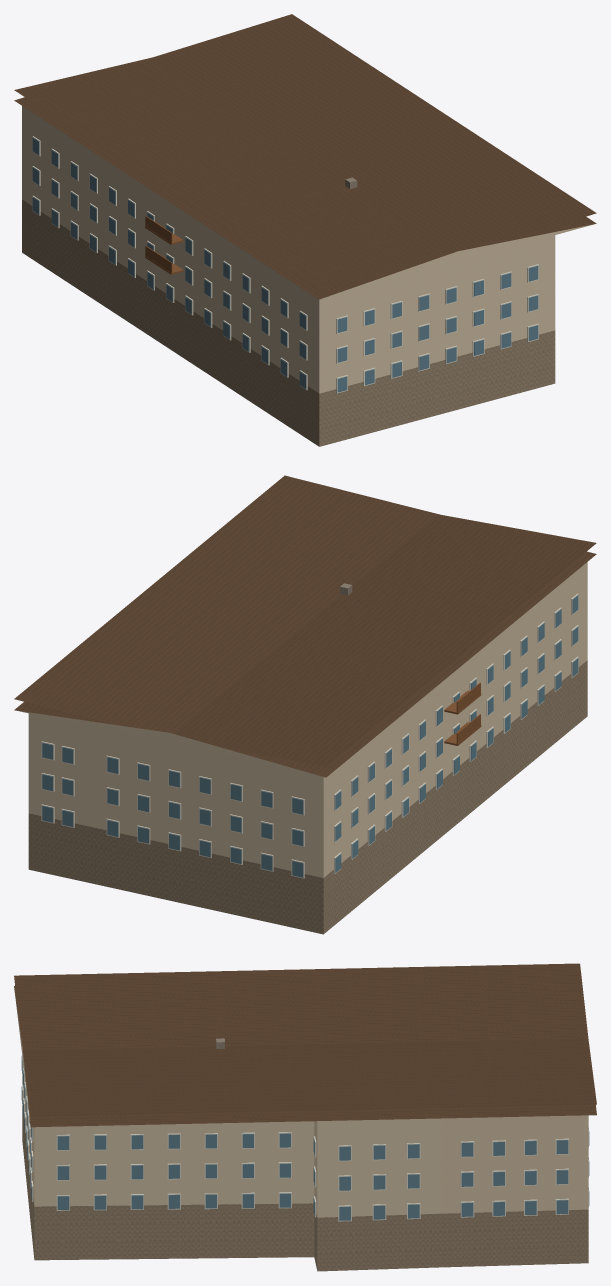
The model's file is core_0001.gltf.
3 views of the same model, one above another, from view 1: azimuth 30°, elevation 25°; view 2: azimuth 150°, elevation 25°; view 3: azimuth 270°, elevation 25° (orthographic). The views are drawn at different scales.
Visible parts, largest first — view 1: core_0001; view 2: core_0001; view 3: core_0001.
Boxes of the visible parts, bbox=[...] form: core_0001: bbox=[14, 14, 596, 446]; core_0001: bbox=[14, 475, 596, 934]; core_0001: bbox=[14, 963, 596, 1271].
Size of the model in its own units: 31.18 by 15.65 by 50.14.
7 materials, 7 textured.
